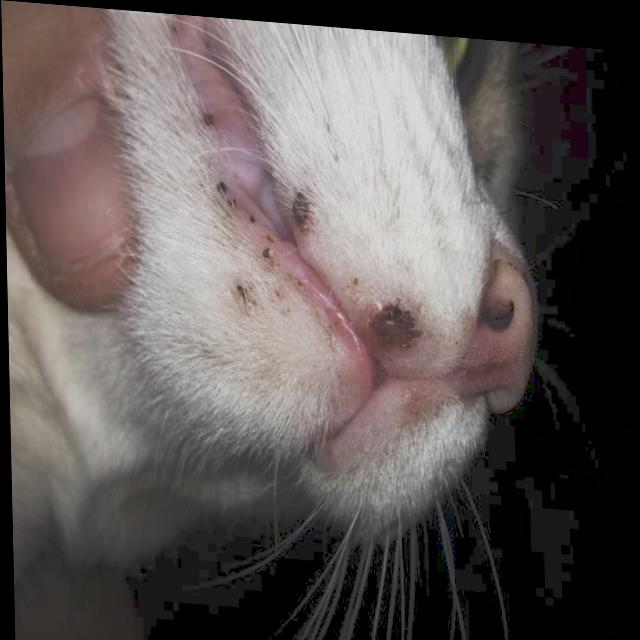acne: (360, 304, 422, 365), (289, 194, 309, 239), (235, 286, 246, 302)
